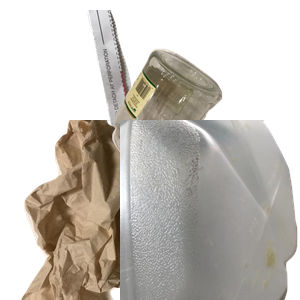glass: (110, 46, 300, 205)
paper: (85, 10, 224, 190)
plastic: (120, 120, 300, 300)
trash: (19, 120, 249, 300)
